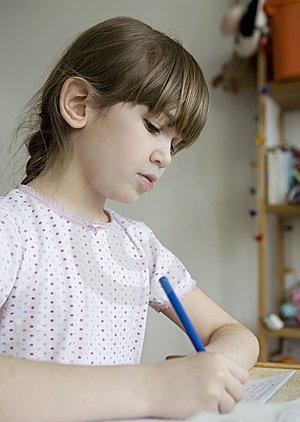person: (1, 18, 259, 422)
